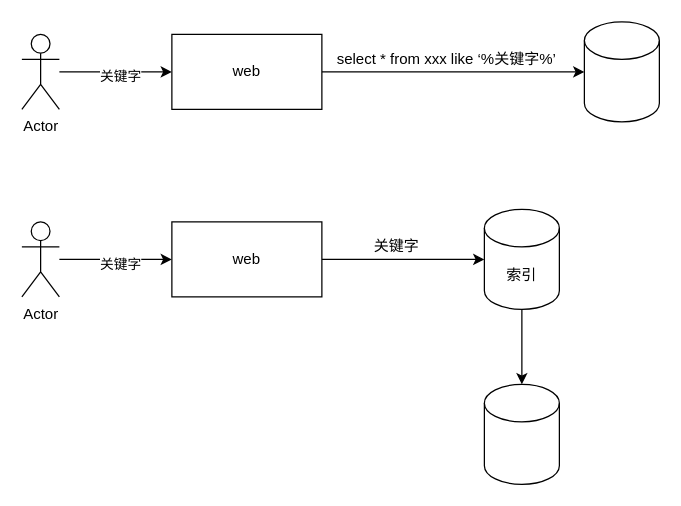
The diagram is 681 pixels wide and 506 high, and some of its shapes have lost their labels. Each missing label, with the centre of its shape:
MySql: (x=621, y=71)
各种数据源: (x=521, y=433)
